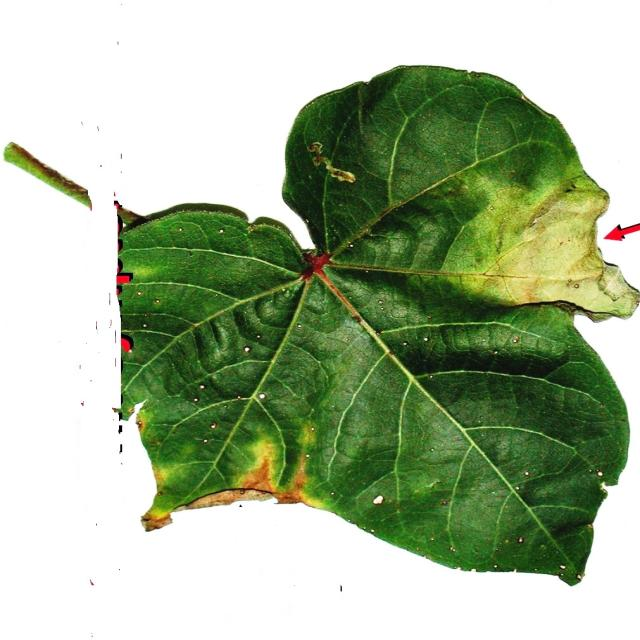Fusarium Wilt: (97, 48, 622, 583)
